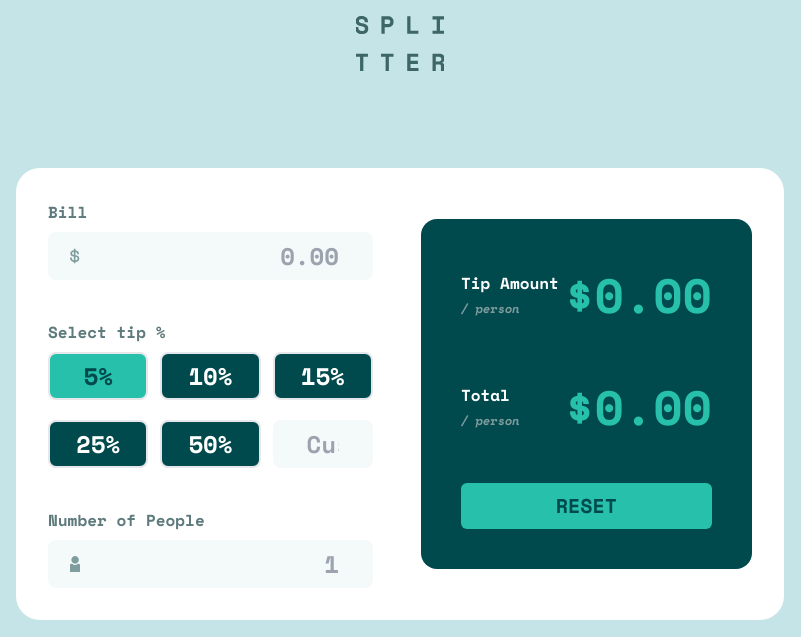
TipForm Component › functional › caculator with custom tip
In the field labelled "Bill": (210, 256) x1=48 y1=232 x2=373 y2=280, type "100"
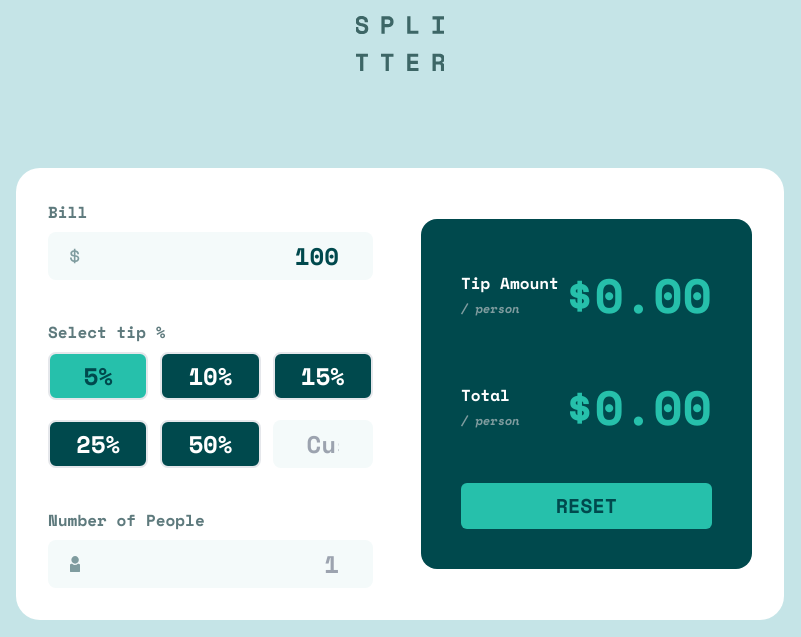
In the field labelled "Number of People": (210, 564) x1=48 y1=540 x2=373 y2=588, type "2"
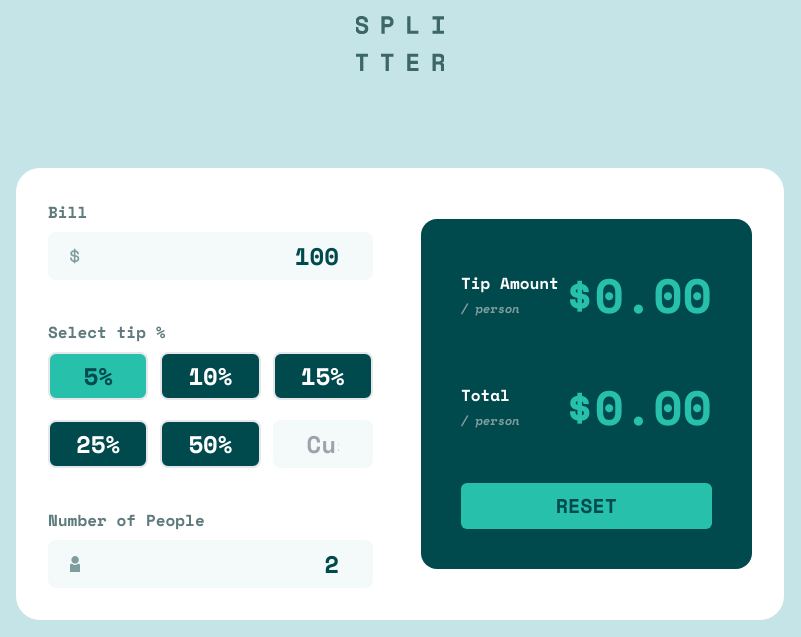
In the field with placeholder "Custom": (323, 444) x1=273 y1=420 x2=373 y2=468, type "10"
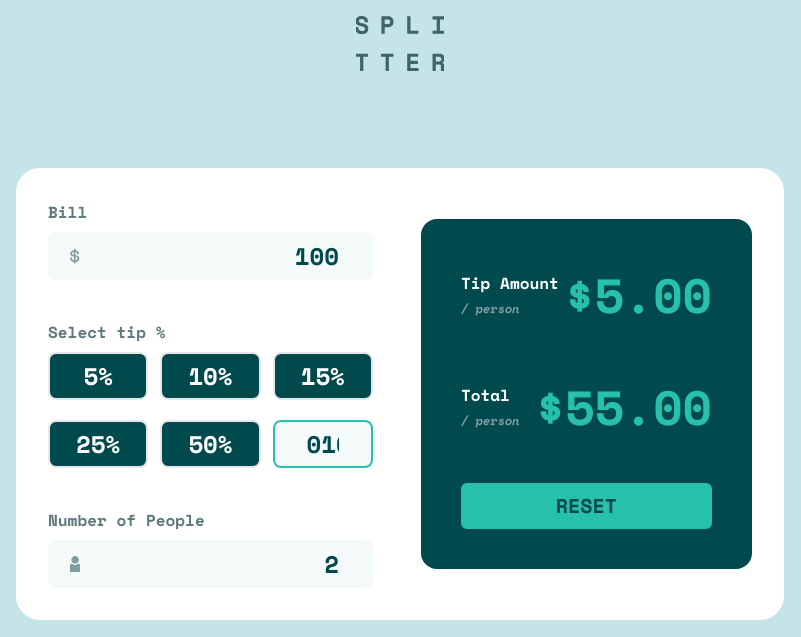
Expected: the text "$5.00" is shown, x1=565 y1=259 x2=712 y2=331
Expected: the text "$55.00" is shown, x1=536 y1=371 x2=712 y2=443
